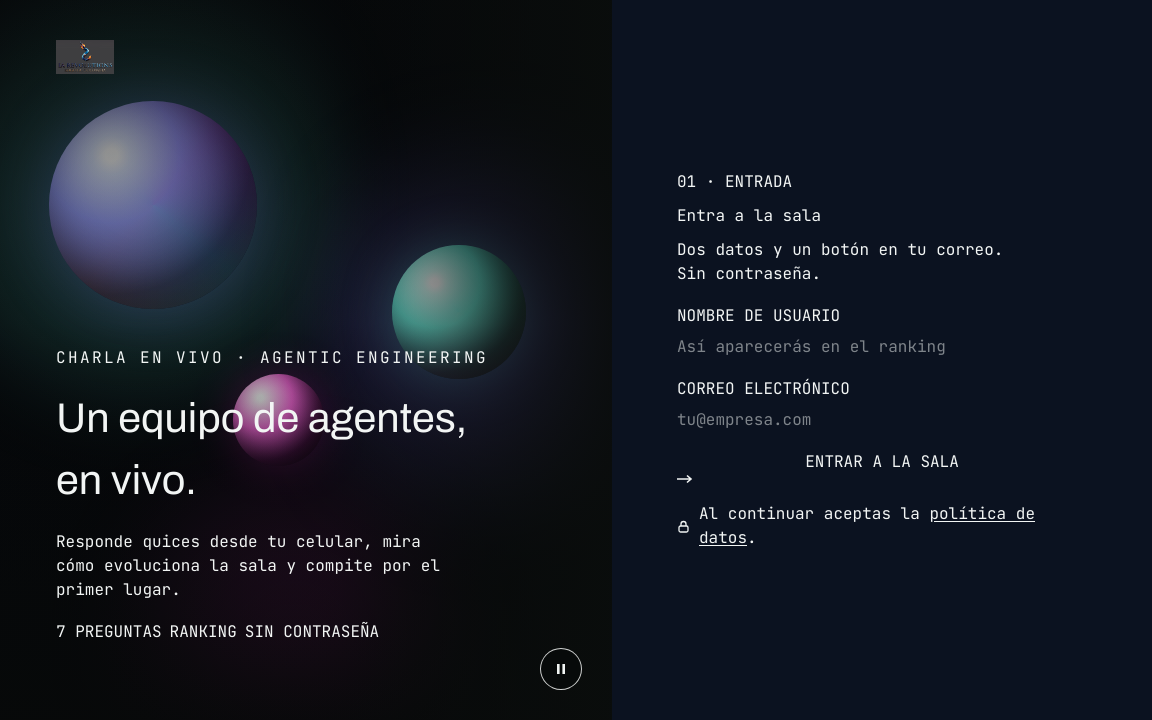
Scenario: Registro › enters right away when verification is off
Expected: the button with test id "charla-submit" is shown, [677,450,1087,484]
Type "Ana" into the field with test id "charla-username" at (882, 347), box [677,335,1087,359]
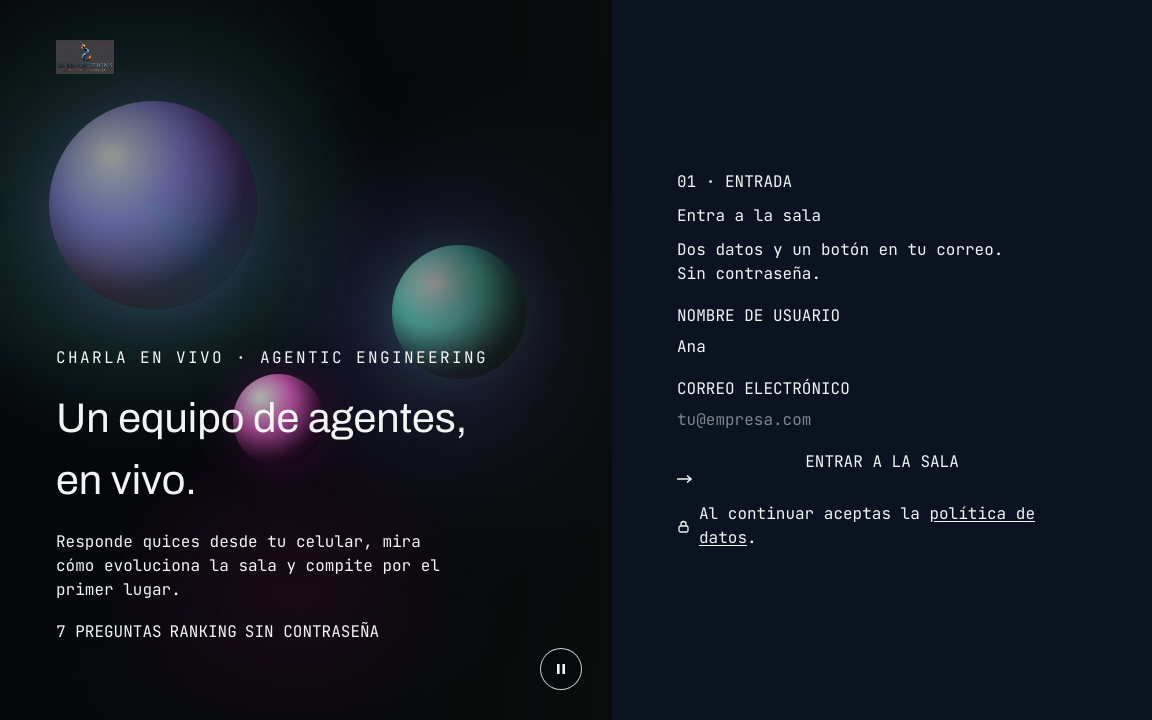
Type "ana@empresa.com" into the field with test id "charla-email" at (882, 420), box [677,408,1087,432]
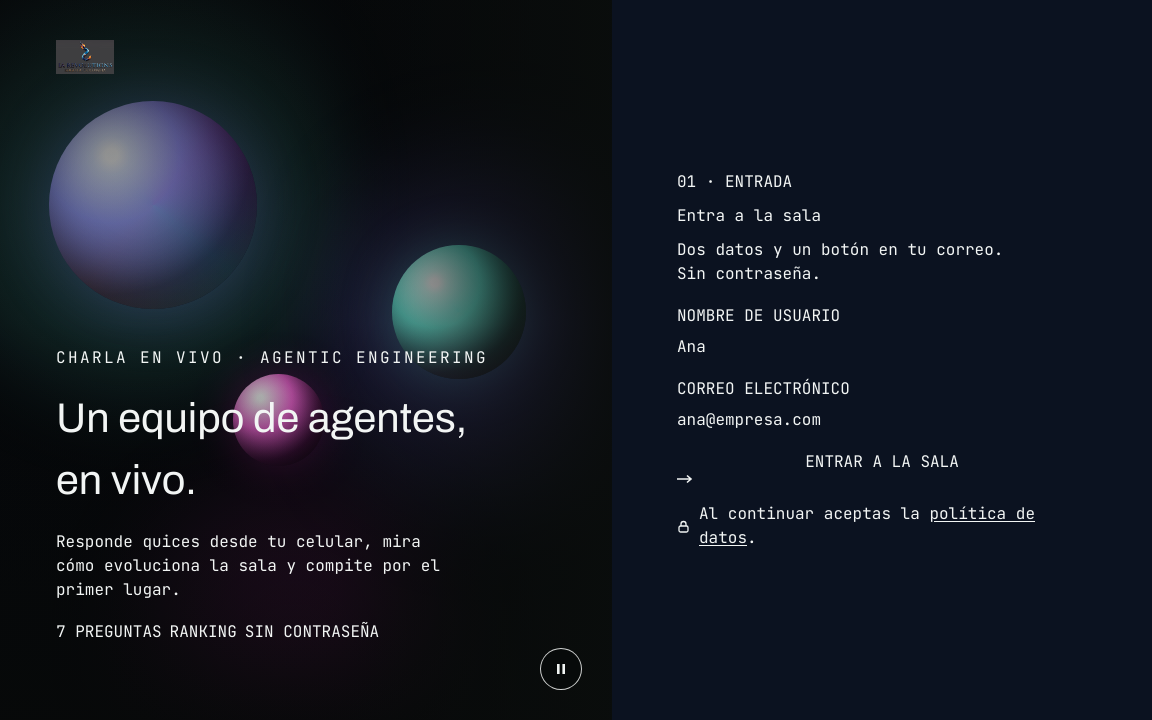
Click the button with test id "charla-submit" at (882, 467), box [677,450,1087,484]
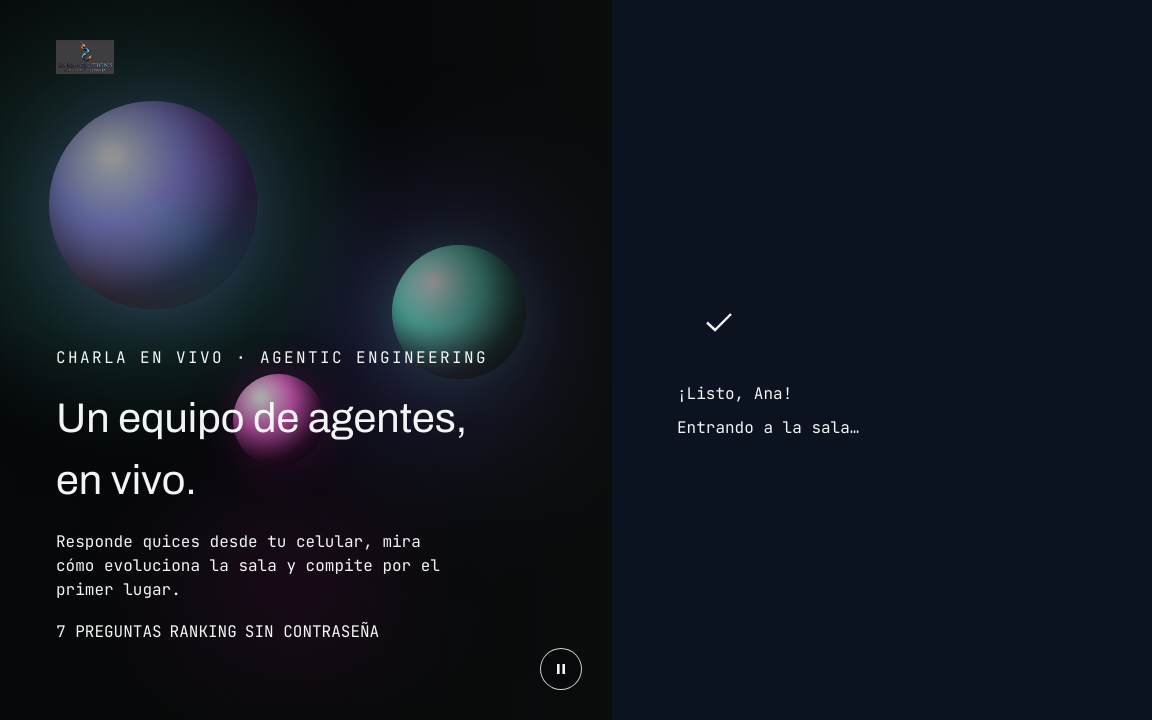
Now the message "¡Listo, Ana! Entrando a la sala…" is shown, box [677,310,859,438]
